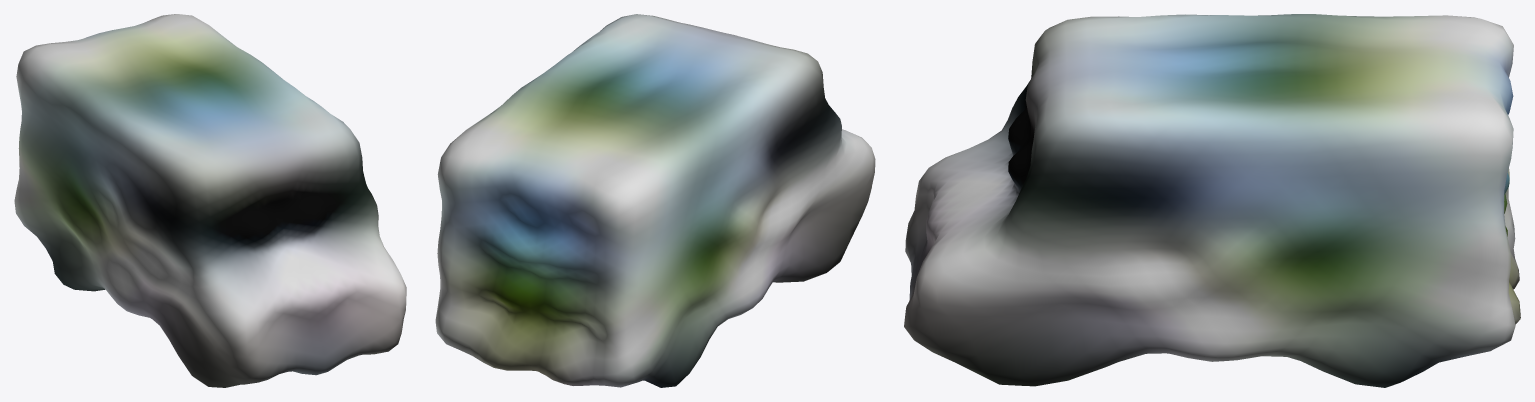
Rendered from CesiumMilkTruck_256B_sh.glb.
The picture shows the model from 3 angles, left to right: view 1: azimuth 30°, elevation 25°; view 2: azimuth 150°, elevation 25°; view 3: azimuth 270°, elevation 25°; orthographic projection. The views are drawn at different scales.
Bounding box in the file's own units: 0.9557 × 1 × 2.01.
